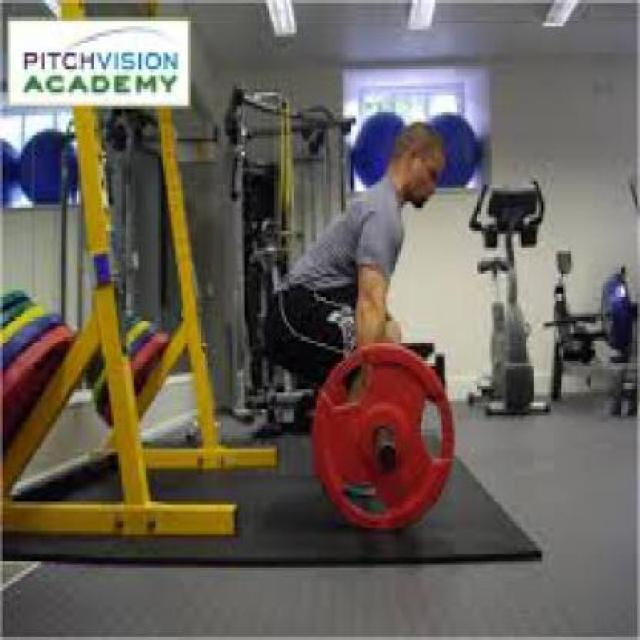barbell: (306, 337, 461, 542)
